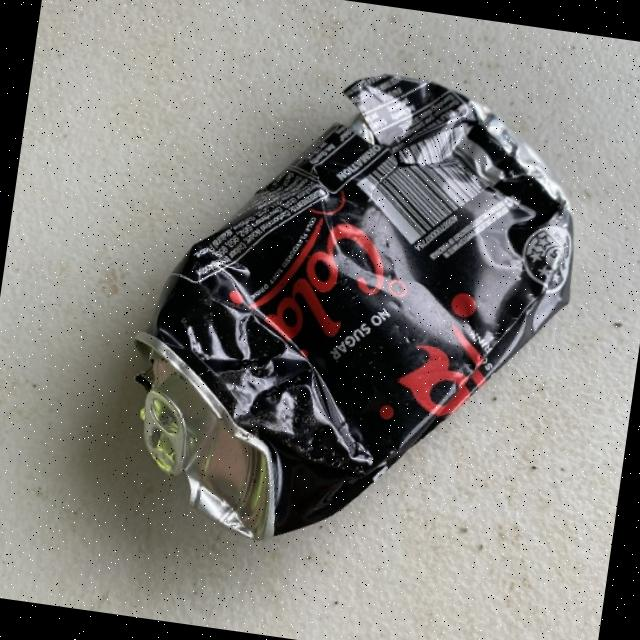metal: (108, 42, 598, 579)
